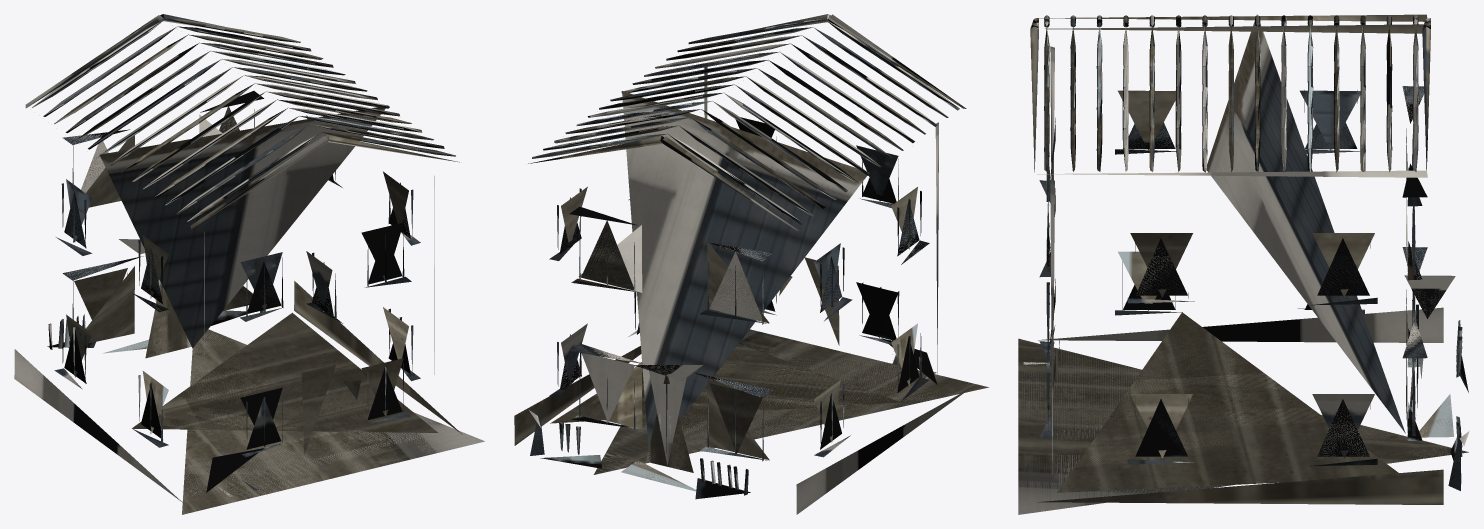
The model's file is residential_001.lod2.obj.
The picture shows the model from 3 angles, left to right: view 1: azimuth 30°, elevation 25°; view 2: azimuth 150°, elevation 25°; view 3: azimuth 270°, elevation 25°; orthographic projection. The views are drawn at different scales.
Visible parts, largest first — view 1: residential_001; view 2: residential_001; view 3: residential_001.
Boxes of the visible parts, x1,y1,x2,y2 form: residential_001: (14,14,484,514); residential_001: (514,14,988,514); residential_001: (1018,14,1469,514).
Size of the model in its own units: 6.82 by 7.25 by 7.39.
Materials: 1 (1 with a texture image).
